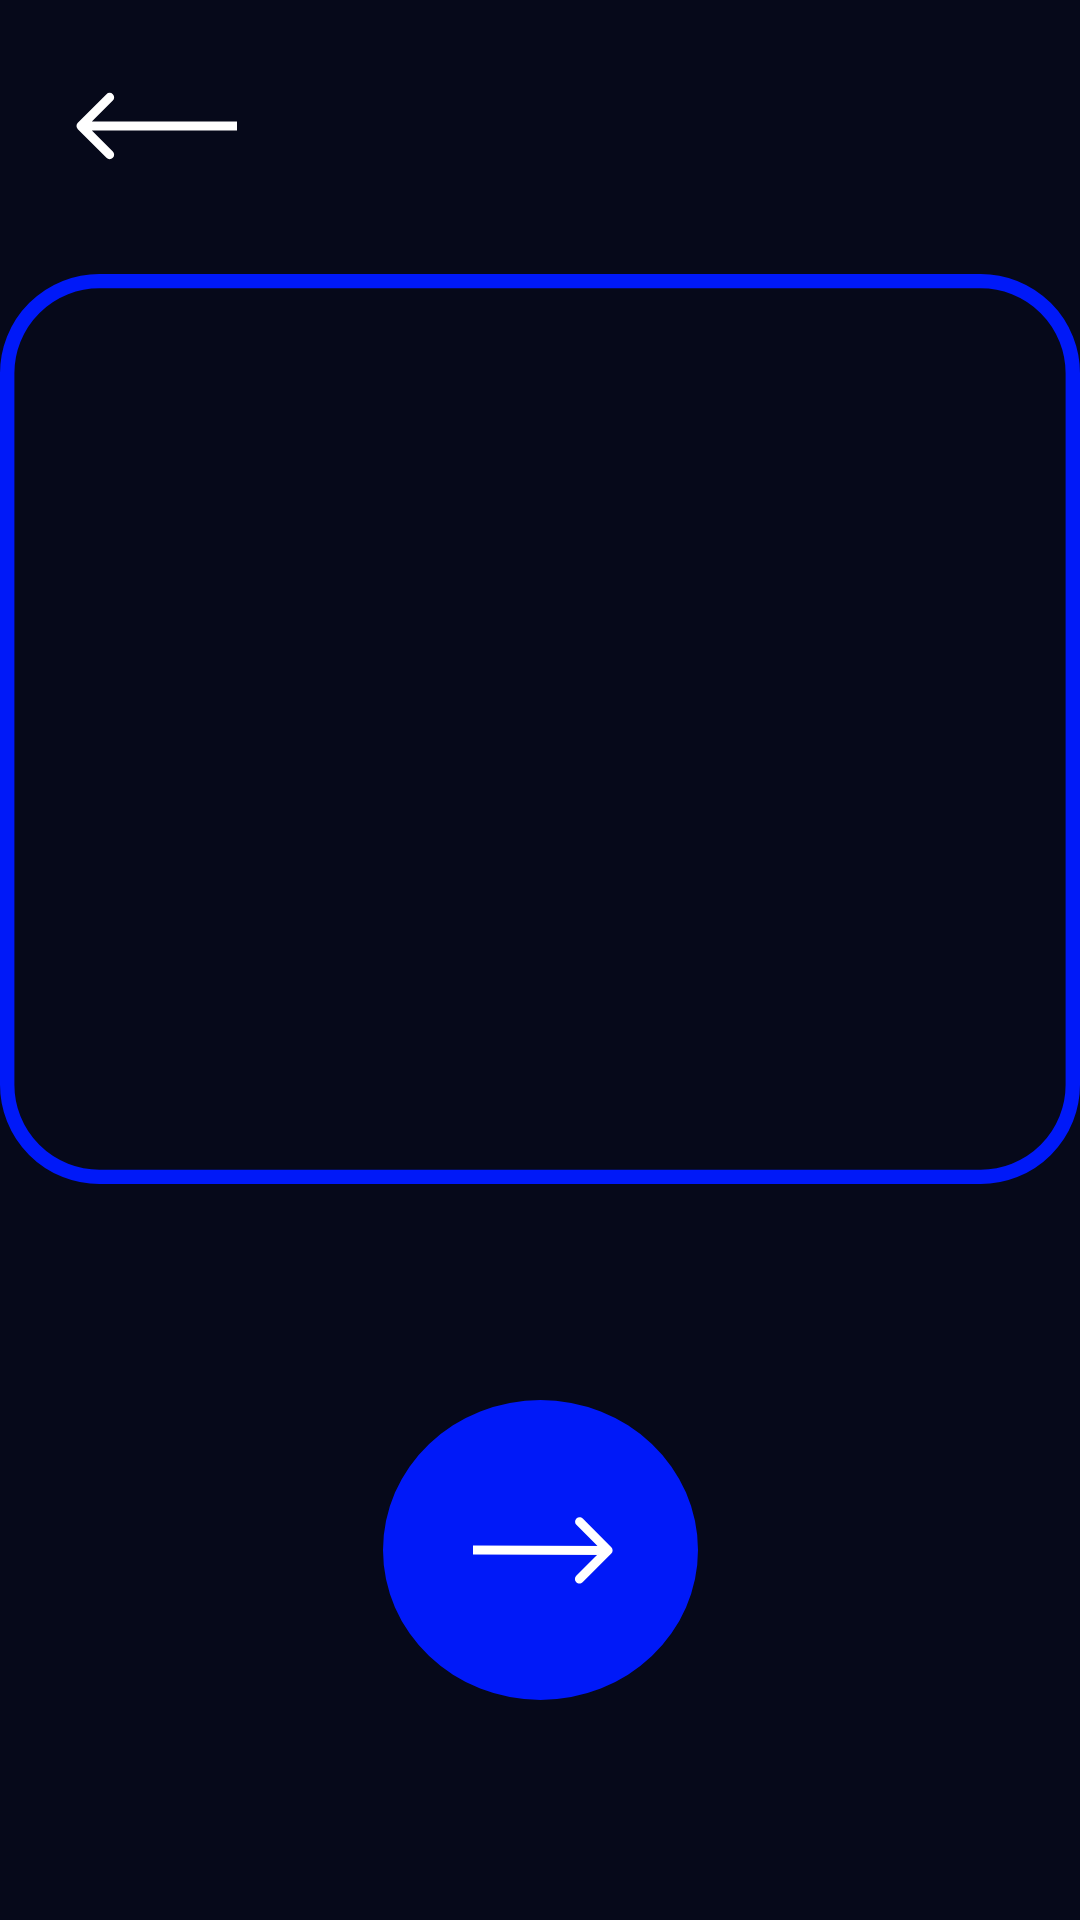

Icons on this 1080x1920 Android screen, each with its box as (x1, y1, x2, y2):
phases back arrow: (76, 92, 237, 160)
phases next: (383, 1400, 698, 1700)
